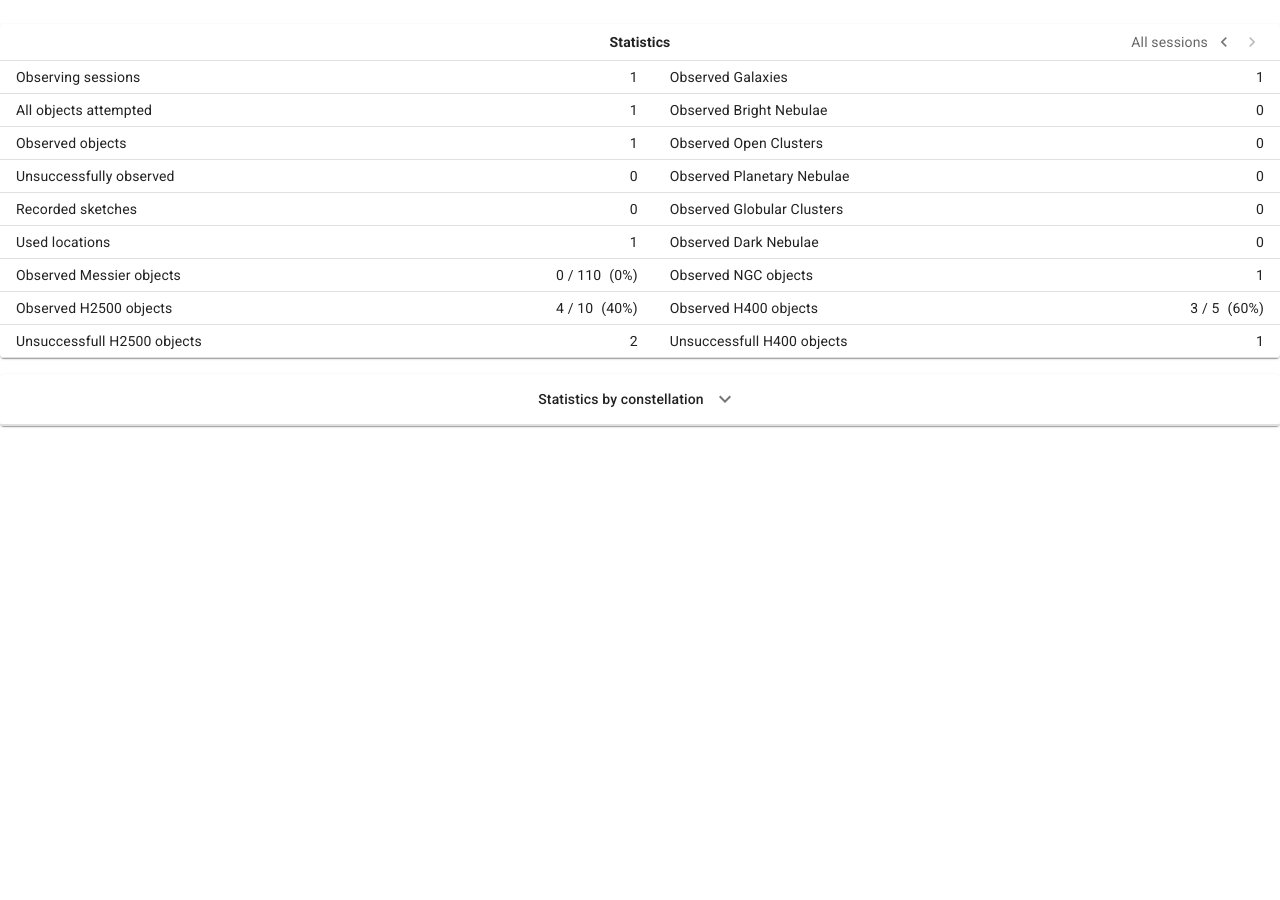
Test: opens the constellation dialog from a constellation statistics row
The image size is (1280, 900).
Click the button "Statistics by constellation" at (640, 399), box 538,382 -> 742,416
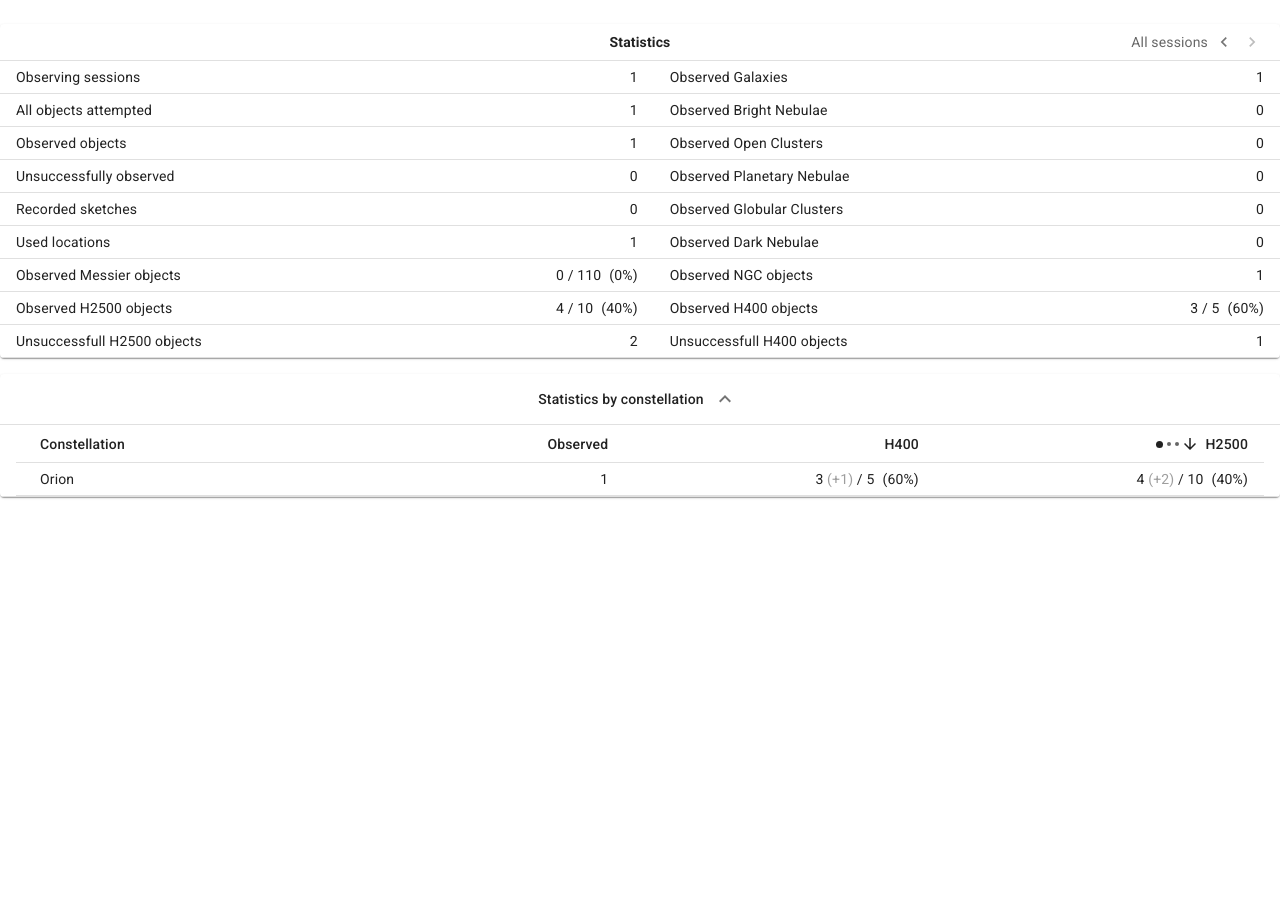
Click the column heading "Orion" at (188, 479), box 24,463 -> 352,496
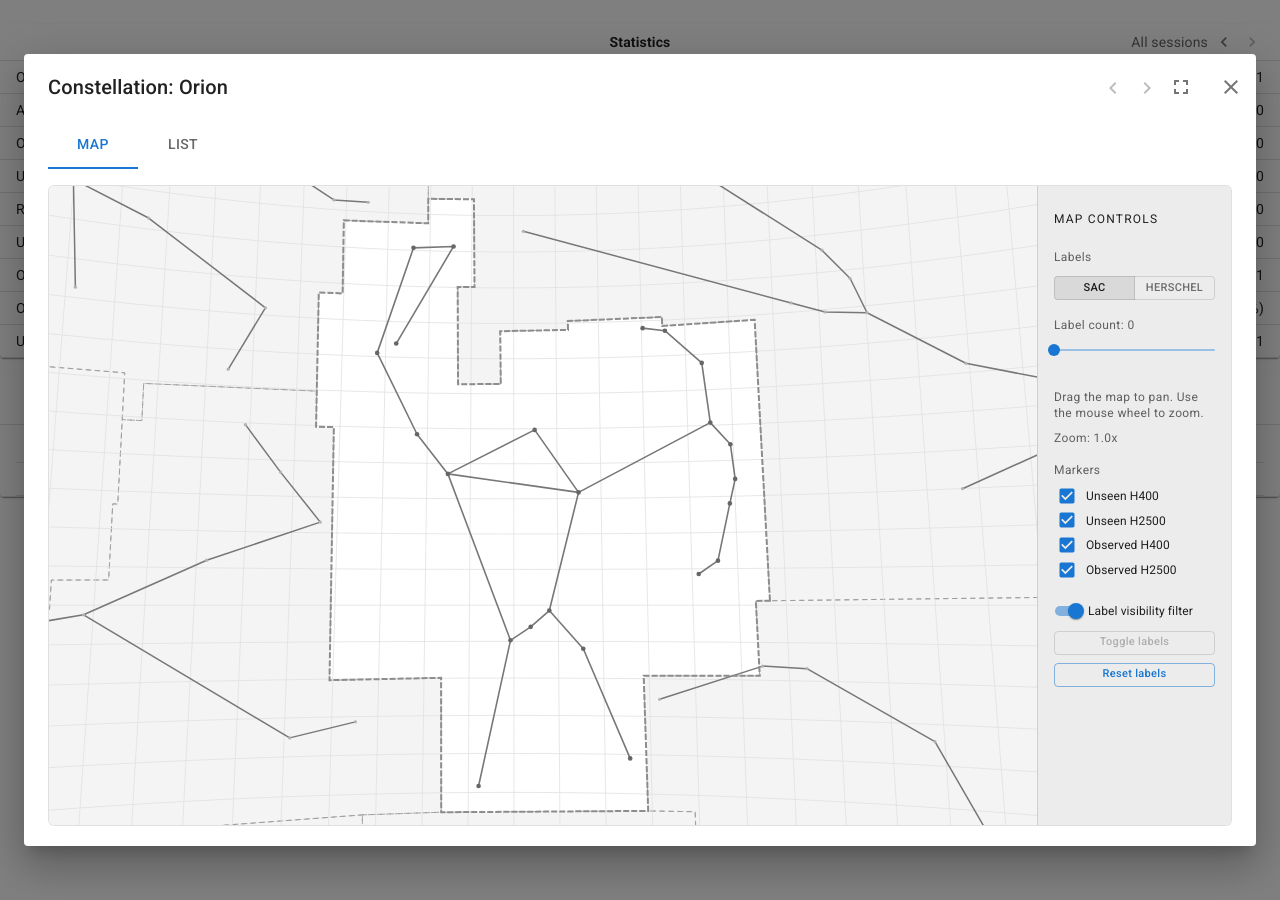
Now the text "Constellation: Orion" is shown, box 48,71 -> 228,103
Now the checkbox labelled "Unseen H2500" is shown, box 1057,510 -> 1166,530
Now the checkbox labelled "Observed H2500" is shown, box 1057,560 -> 1177,580
